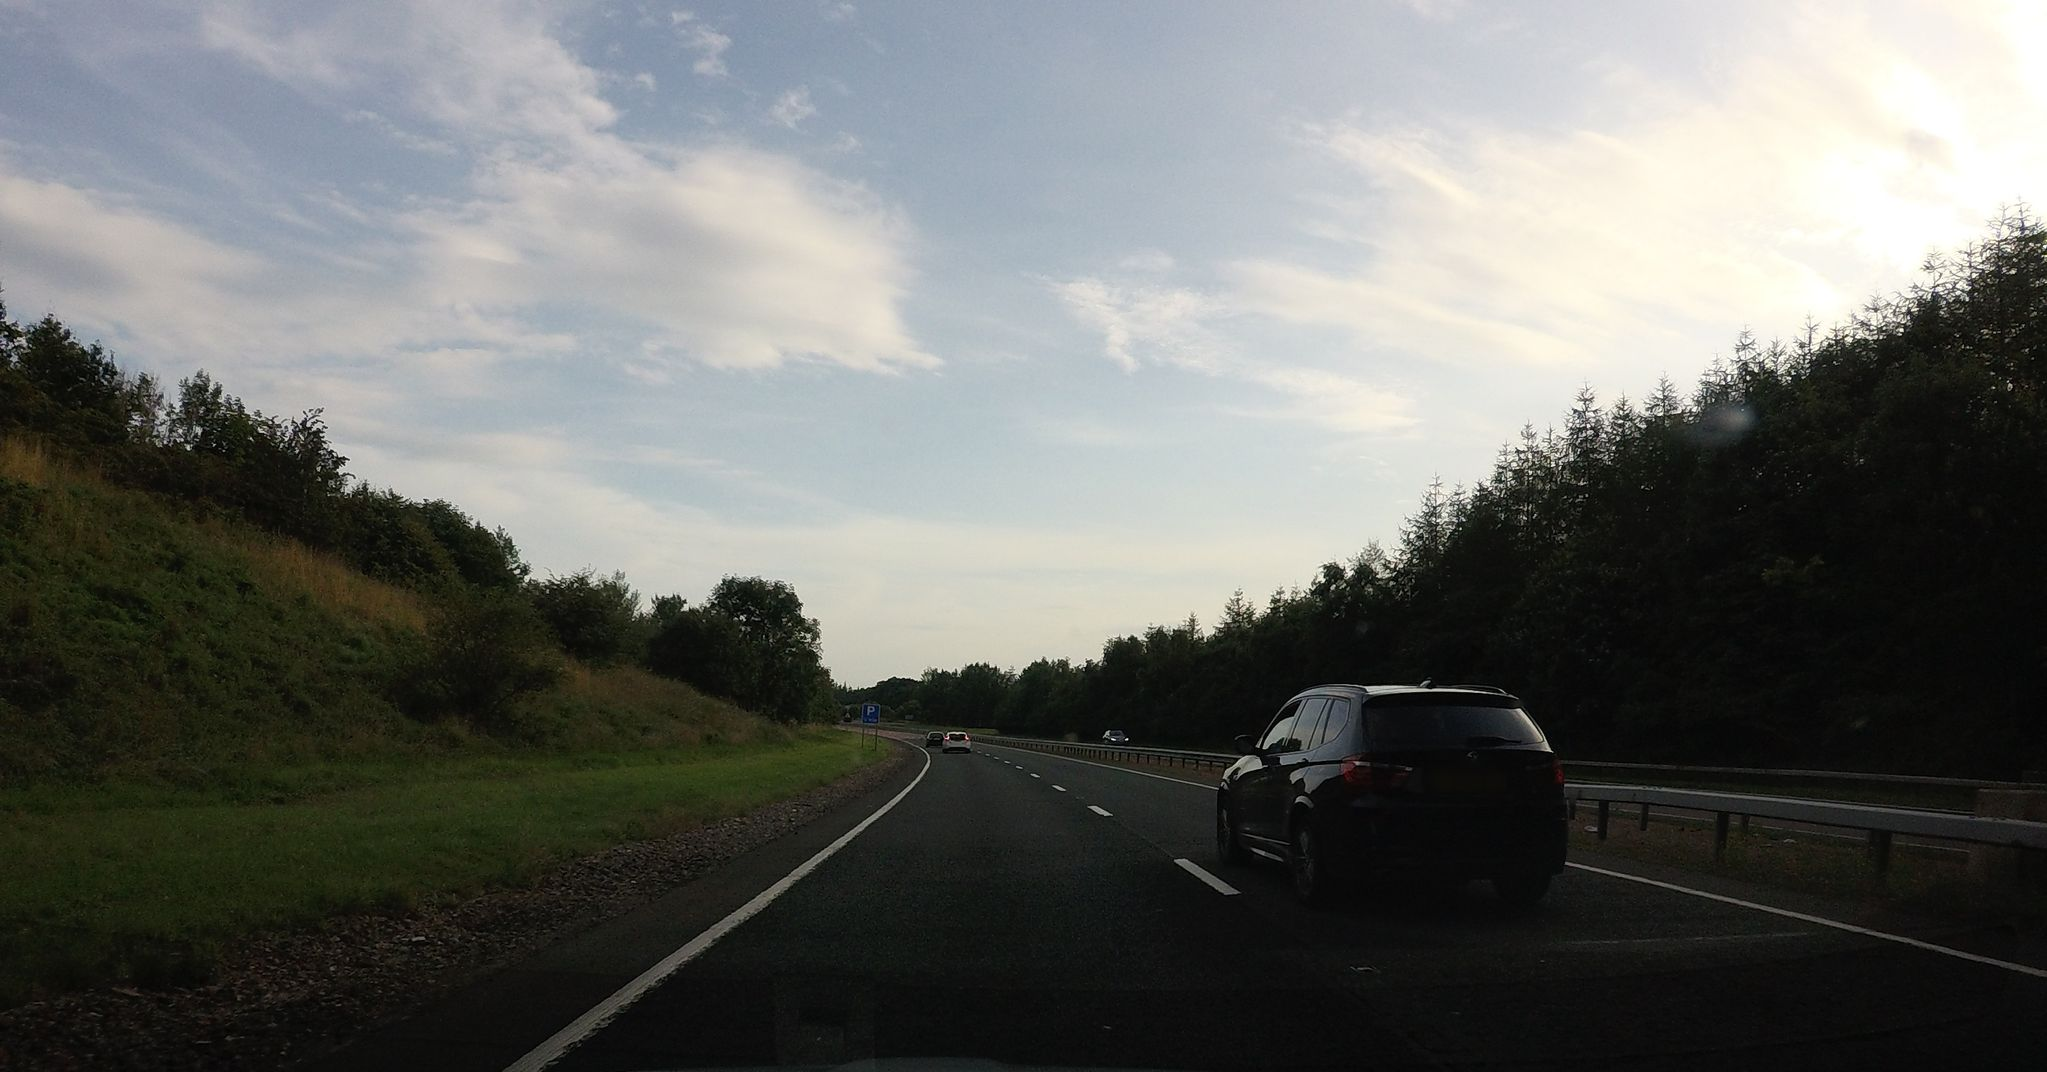car: (1210, 679, 1575, 908), (941, 730, 971, 753), (1102, 728, 1129, 746), (925, 731, 944, 749)
